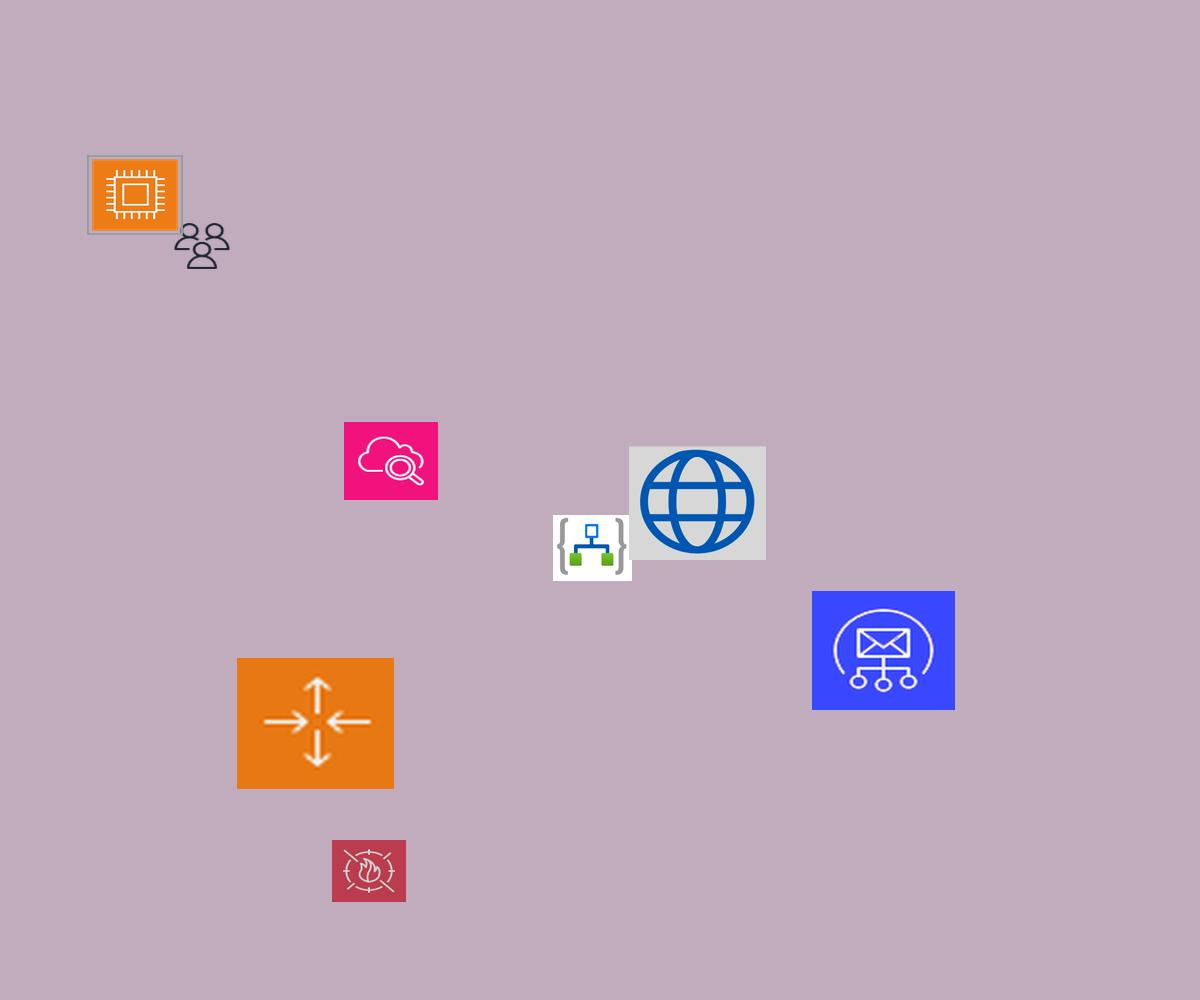AWS-Category_Compute: (87, 155, 183, 235)
AWS-CloudWatch: (344, 422, 438, 500)
AWS-Res_Users: (172, 221, 232, 271)
AWS-Scaling-group: (237, 658, 394, 789)
AWS-Simple-Email-Service: (812, 591, 955, 710)
AWS-WAF: (332, 840, 406, 902)
Azure_http: (629, 446, 766, 560)
Azure_integration-204-Logic-Apps: (553, 515, 632, 581)
